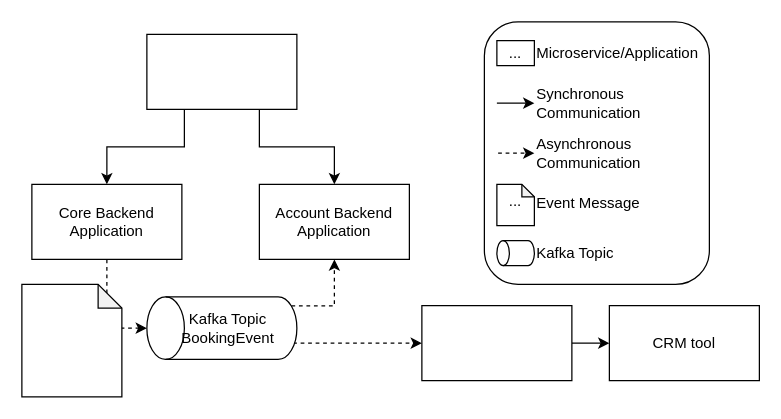
Some shapes in this 781 by 419 pixel diagram are drawn without their labels. The box of each missing label's shape, as (x1, y1, x2, y2) in pixels:
Booking Created Event --- BookingID: 1: (21, 283, 122, 397)
CRM Kafka Connector: (421, 304, 572, 381)
Next.js - Frontend Application: (146, 33, 297, 109)
